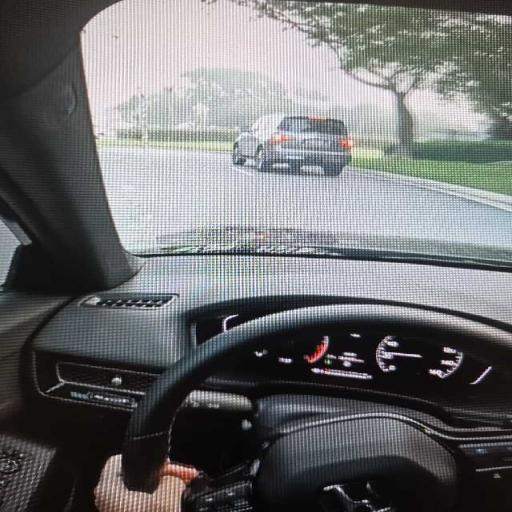car: (0, 0, 511, 511), (232, 115, 351, 175)
lane: (100, 147, 511, 246)
person: (95, 455, 198, 511)
